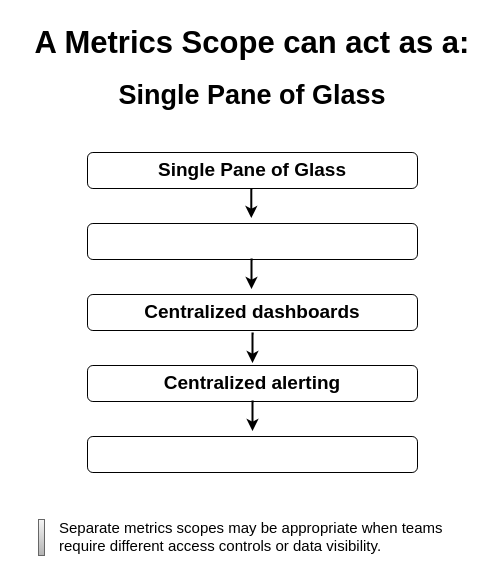
Some shapes in this 504 by 582 pixel diagram are drawn without their labels. The shapes that lost their labels are listed below. From the top down, each one's centre as x and y in pixels, then its label:
[252,241]: Monitor multiple projects
[252,454]: Centralized operational visibility
